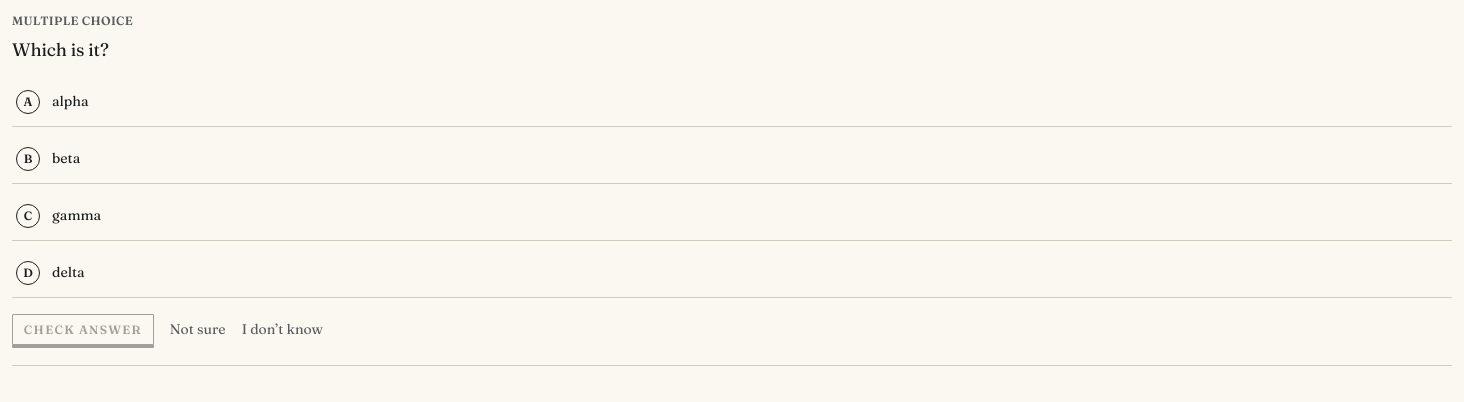
Scenario: McqCard › when the answer key points outside the options › says the course file is at fault rather than the student
What coordinates should you click on to do the following:
click the text "alpha"
I would click on:
 (70, 102)
Its box is [52,91,89,113].
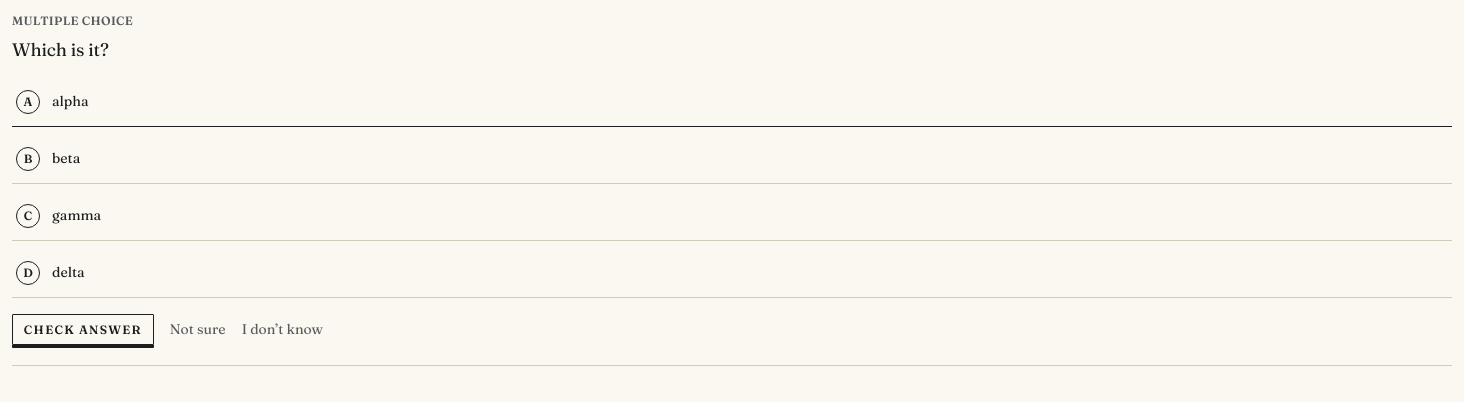
What coordinates should you click on to do the following:
click the button "Check answer"
I would click on:
 (83, 330)
Its box is [12,314,154,346].
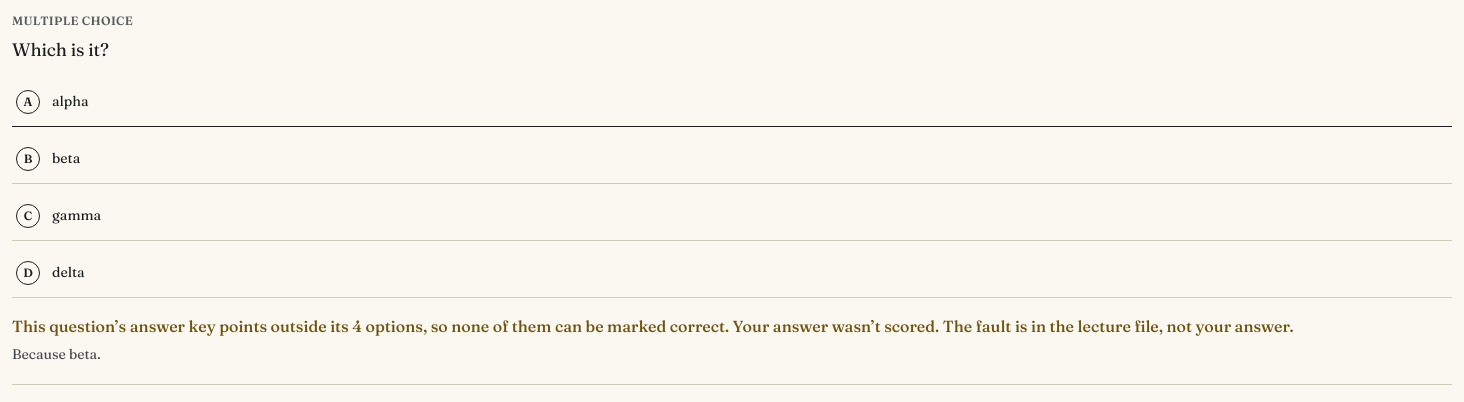
Now the text "answer key points outside its 4 options" is shown, box [12,314,1452,340]
